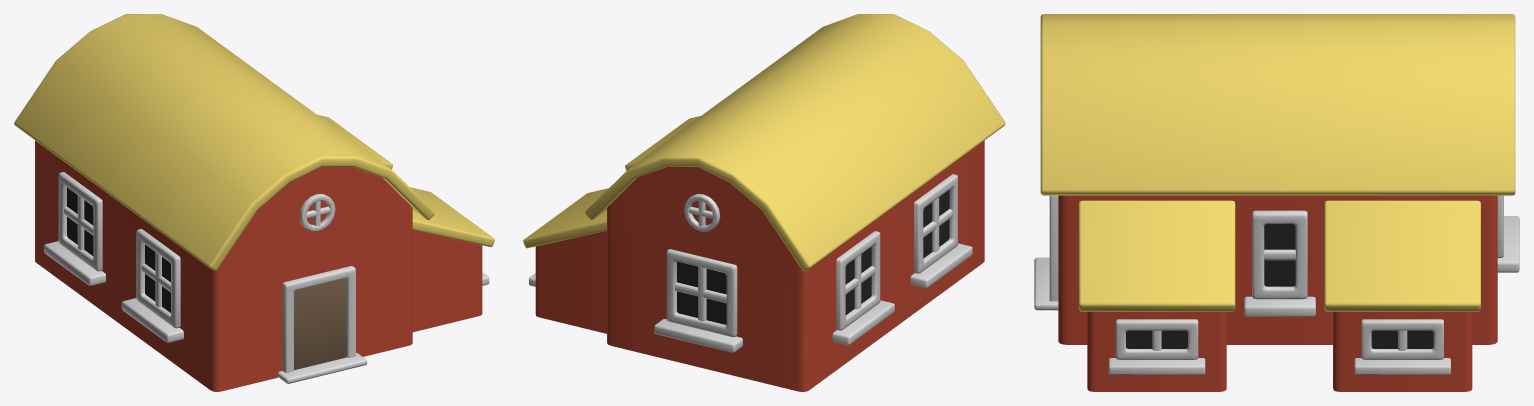
File: House_07.fbx
The picture shows the model from 3 angles, left to right: view 1: azimuth 30°, elevation 25°; view 2: azimuth 150°, elevation 25°; view 3: azimuth 270°, elevation 25°; orthographic projection. The views are drawn at different scales.
Visible parts, largest first — view 1: House_07; view 2: House_07; view 3: House_07.
Boxes of the visible parts, x1,y1,x2,y2 form: House_07: (14,14,494,391); House_07: (523,14,1005,391); House_07: (1034,14,1519,391).
Size of the model in its own units: 5050 by 3341 by 5625.
